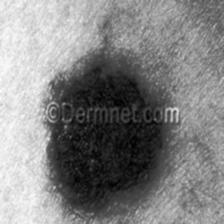Potentially Malignant Skin Tumors: (52, 61, 164, 209)
